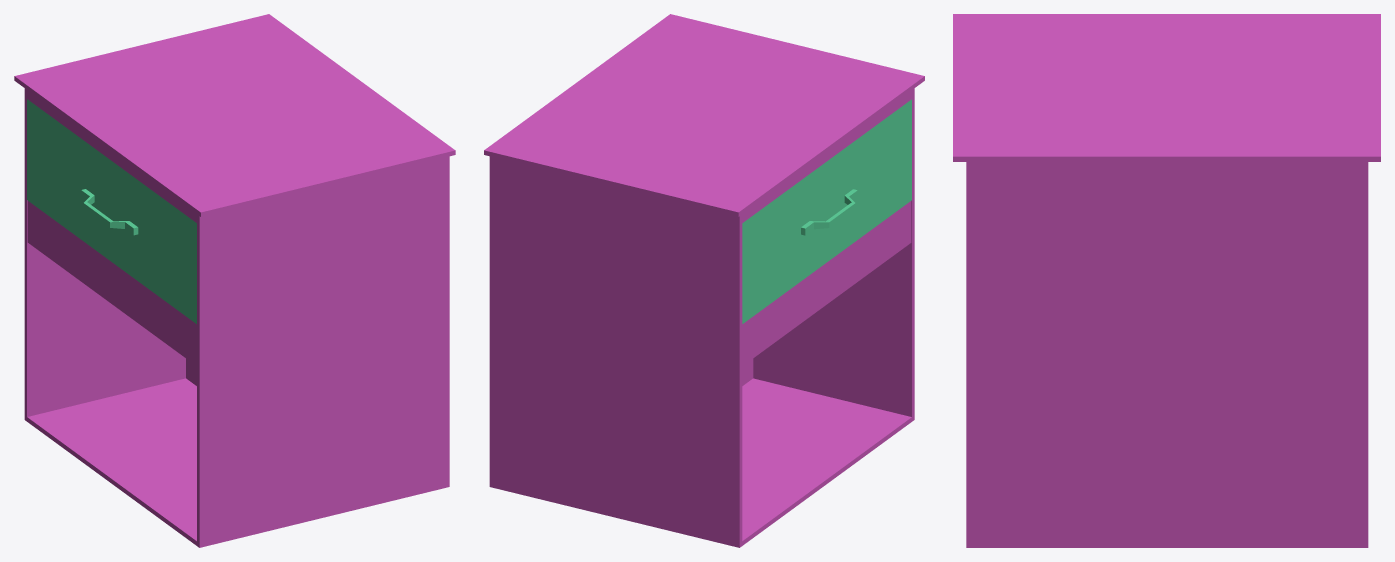
File: SM_NightStand2.fbx
The picture shows the model from 3 angles, left to right: view 1: azimuth 30°, elevation 25°; view 2: azimuth 150°, elevation 25°; view 3: azimuth 270°, elevation 25°; orthographic projection. The views are drawn at different scales.
Parts seen in each view (by area): view 1: NightSrand2, Drawer; view 2: NightSrand2, Drawer; view 3: NightSrand2.
Boxes of the visible parts, x1,y1,x2,y2 form: NightSrand2: (14, 14, 455, 547); Drawer: (27, 99, 196, 323); NightSrand2: (484, 14, 924, 547); Drawer: (742, 99, 911, 323); NightSrand2: (953, 14, 1380, 547).
Size of the model in its own units: 58.5 by 71.78 by 71.14.
